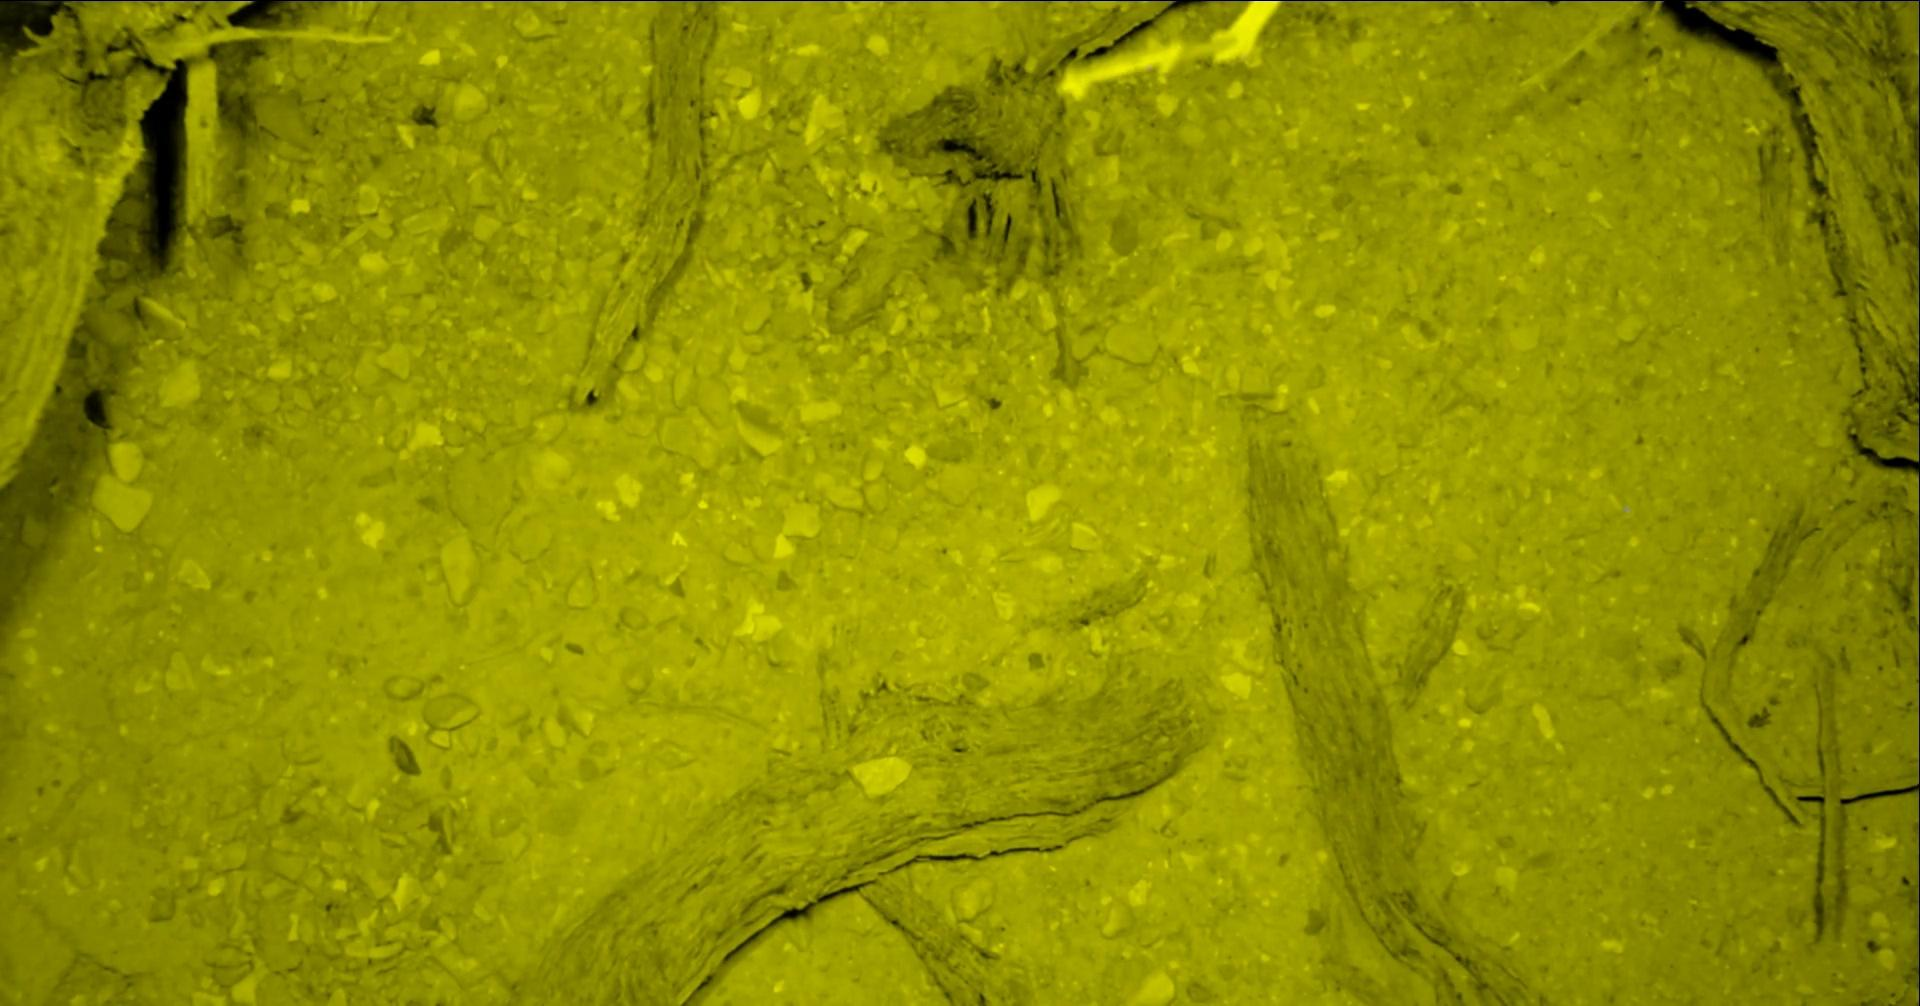ant: (1763, 0, 1920, 10), (1919, 854, 1920, 968), (1919, 251, 1920, 306), (287, 0, 337, 1)
